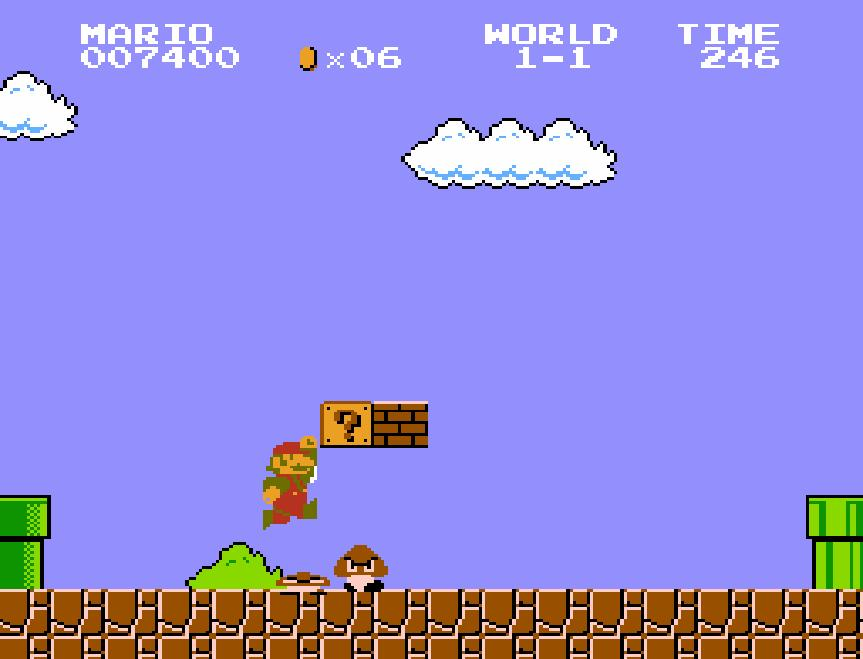big_mario: (260, 434, 318, 532)
